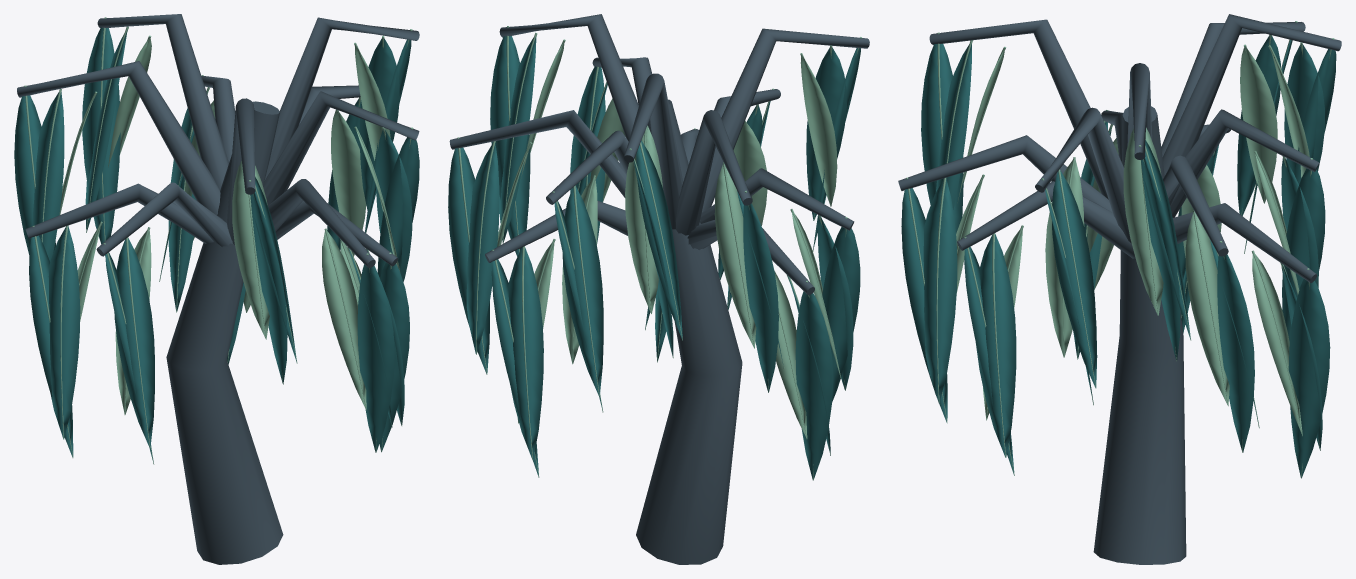
File: cryo_willow.glb
The picture shows the model from 3 angles, left to right: view 1: azimuth 30°, elevation 25°; view 2: azimuth 150°, elevation 25°; view 3: azimuth 270°, elevation 25°; orthographic projection. The views are drawn at different scales.
Parts seen in each view (by area): view 1: cryo_willow; view 2: cryo_willow; view 3: cryo_willow.
Part boxes in pixels (x1,y1,x2,y2): cryo_willow: (14,14,419,564); cryo_willow: (448,14,869,564); cryo_willow: (898,14,1341,564).
Size of the model in its own units: 7.75 by 10.29 by 7.65.
